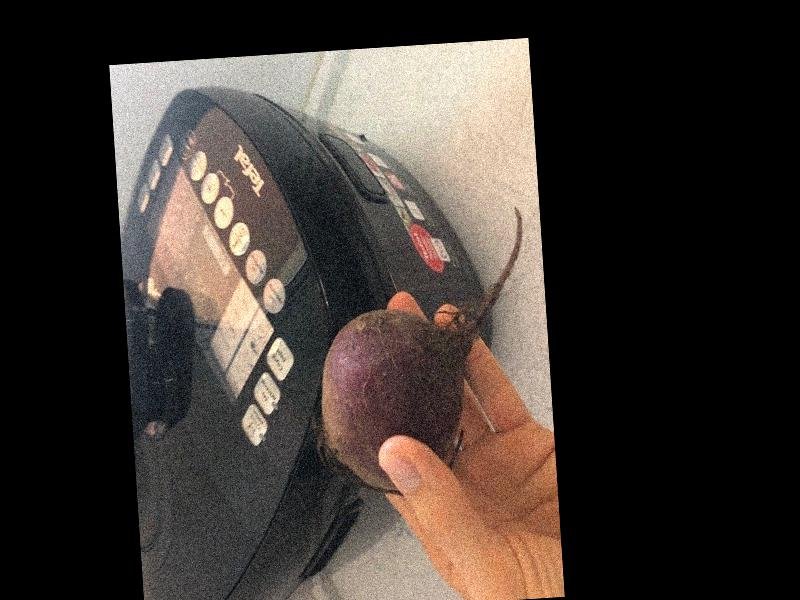Beet: (300, 208, 538, 498)
